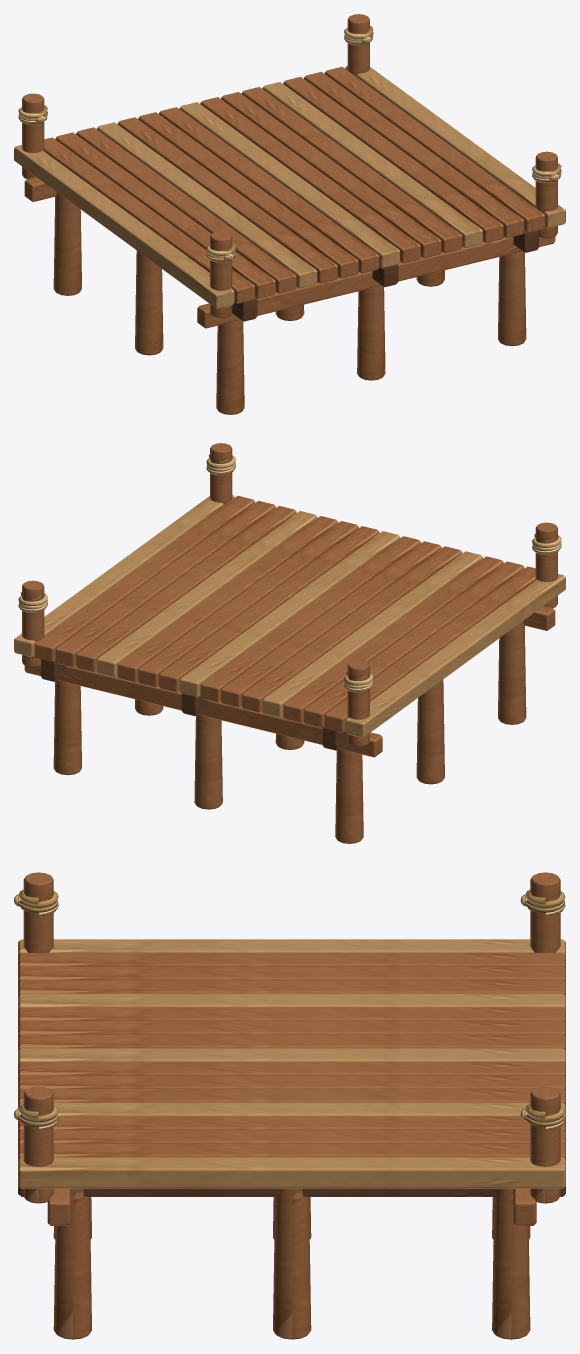
The model's file is SM_Dock_Platform.glb.
3 views of the same model, one above another, from view 1: azimuth 30°, elevation 25°; view 2: azimuth 150°, elevation 25°; view 3: azimuth 270°, elevation 25° (orthographic). The views are drawn at different scales.
Parts seen in each view (by area): view 1: SM_Dock_Platform; view 2: SM_Dock_Platform; view 3: SM_Dock_Platform.
Part boxes in pixels (x1,y1,x2,y2): SM_Dock_Platform: (14, 14, 565, 414); SM_Dock_Platform: (14, 443, 565, 843); SM_Dock_Platform: (14, 872, 565, 1339).
Size of the model in its own units: 4 by 2.05 by 4.03.
1 material, 1 textured.
